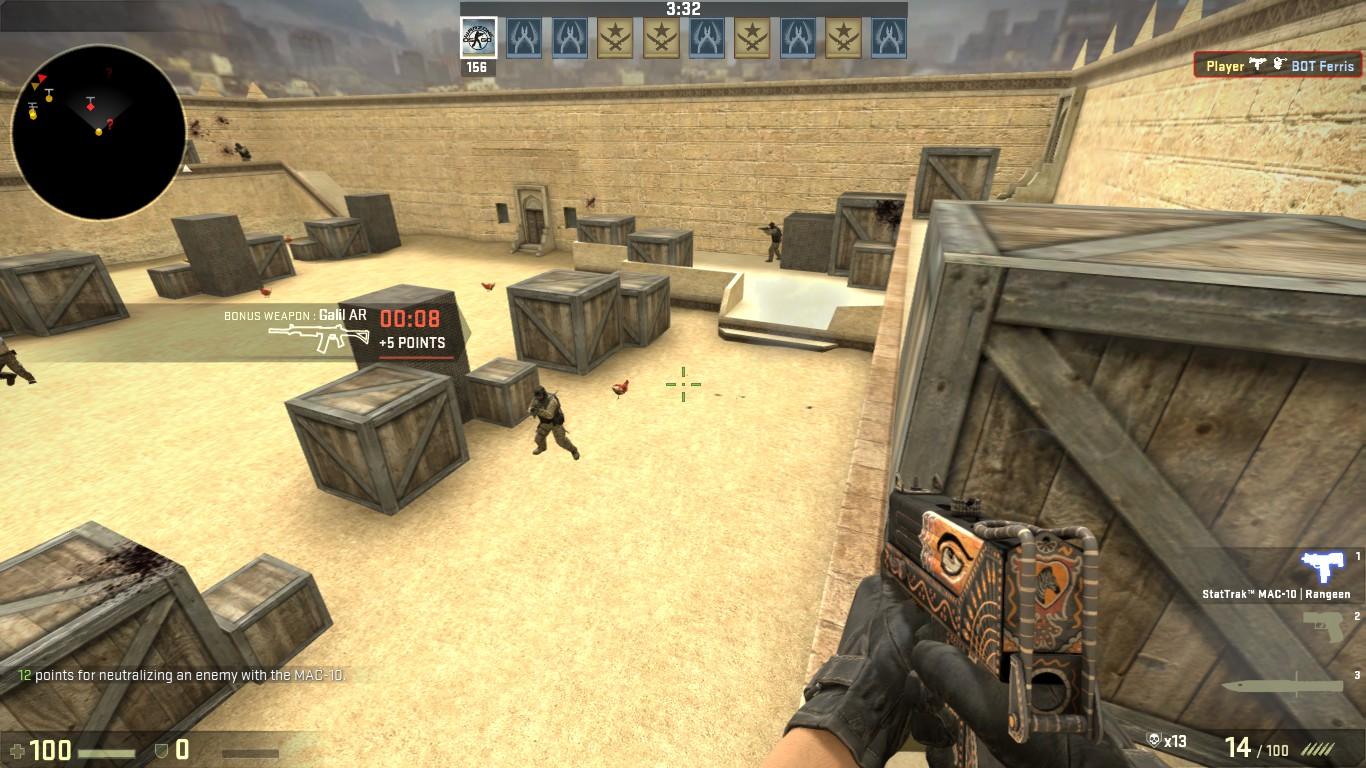c: (531, 382, 565, 455), (763, 222, 783, 263)
ch: (533, 384, 547, 405), (767, 222, 777, 231)
